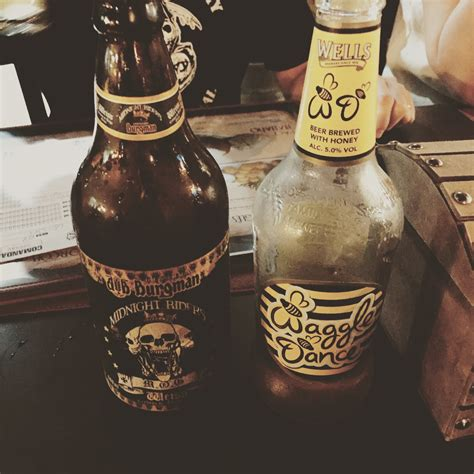alcohol: (73, 2, 236, 419), (252, 2, 406, 408)
